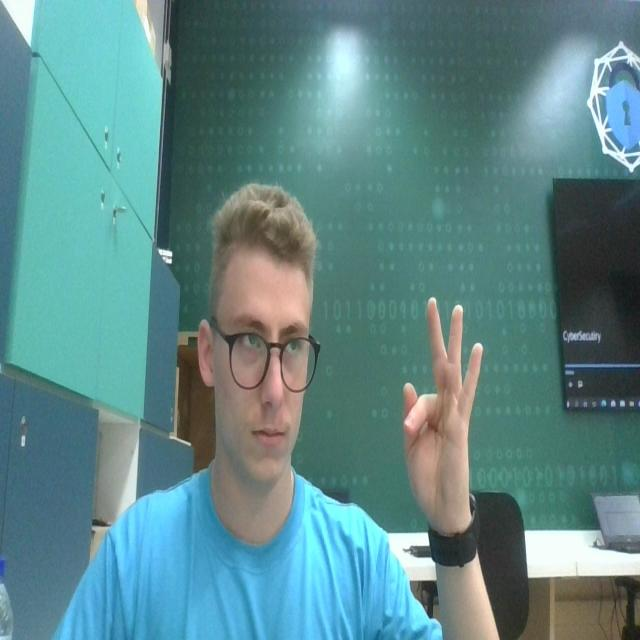F: (395, 289, 486, 527)
